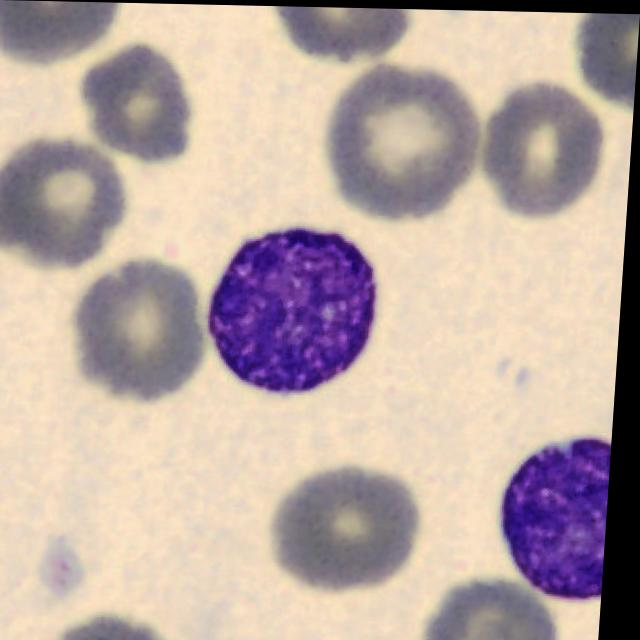Linfocito: (212, 224, 381, 389), (508, 433, 618, 597)
